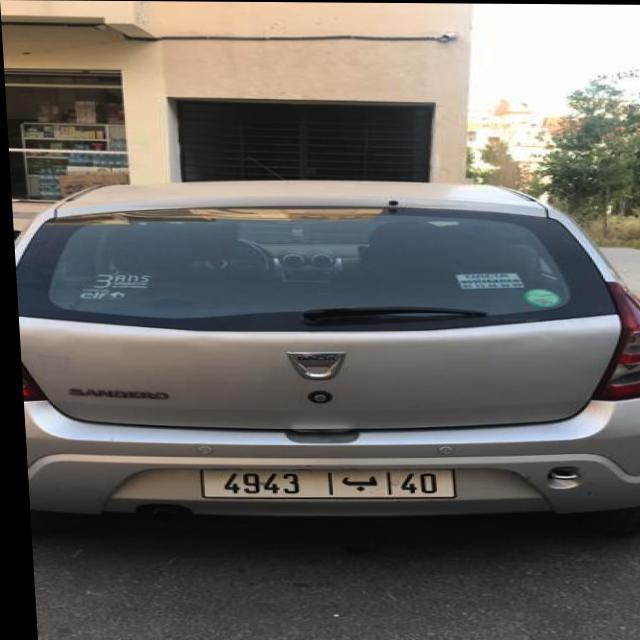License-Plate: (195, 471, 447, 498)
